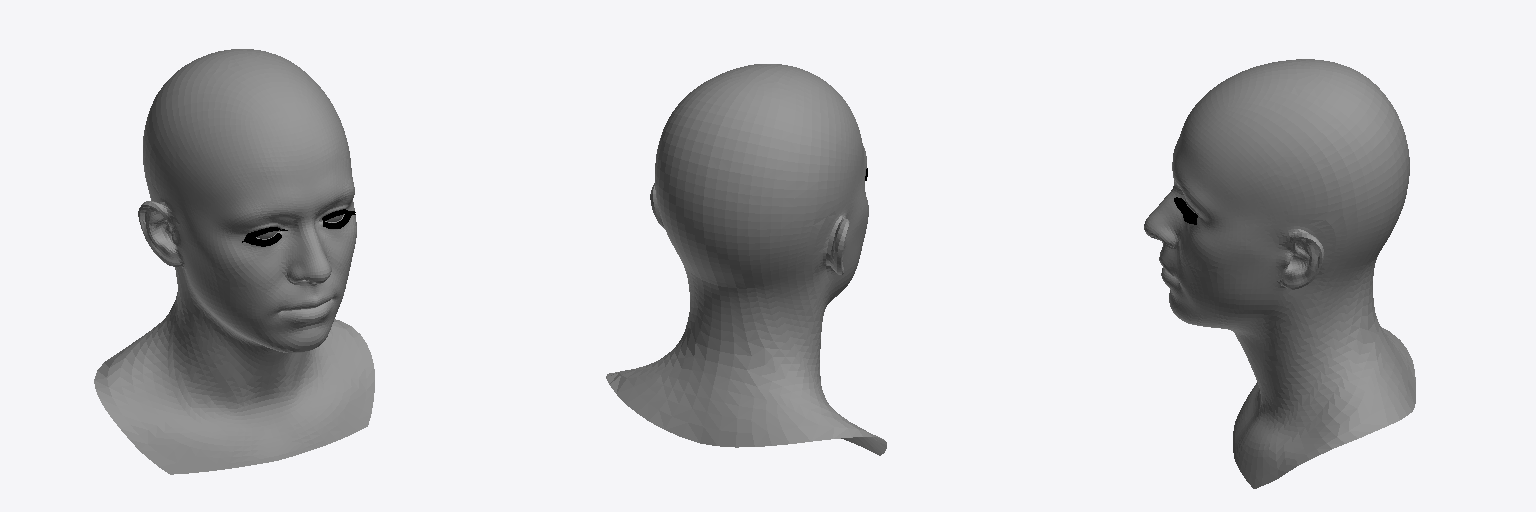
Rendered from identity052.obj.
3 views of the same model, side by side, from view 1: azimuth 30°, elevation 25°; view 2: azimuth 150°, elevation 25°; view 3: azimuth 270°, elevation 25° (orthographic).
Bounding box in the file's own units: 24.83 × 33.83 × 22.26.